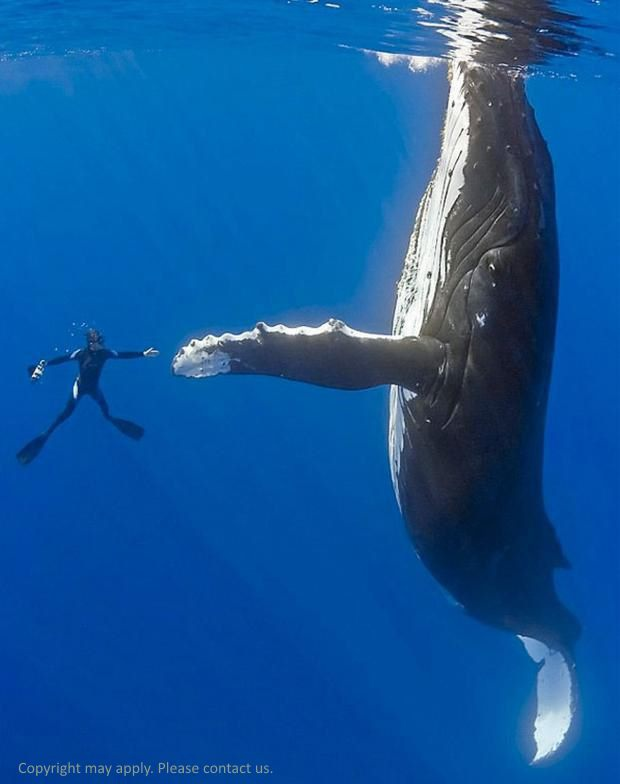humpback: (380, 56, 591, 760)
